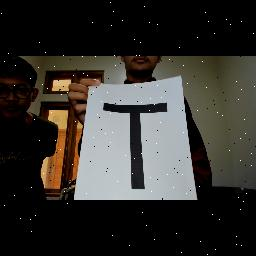t: (100, 100, 174, 194)
